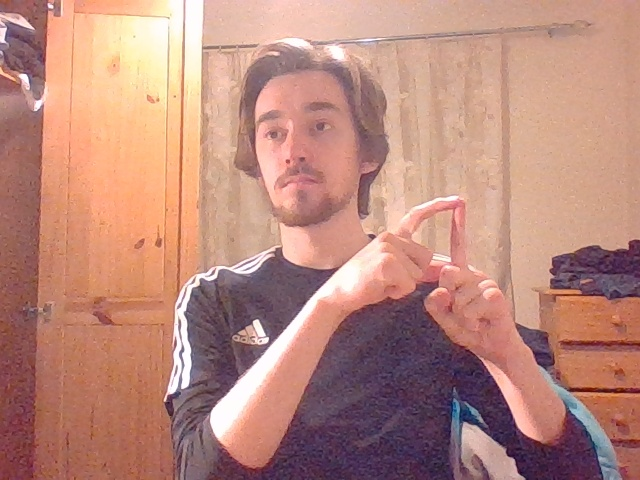daughter: (373, 195, 494, 315)
